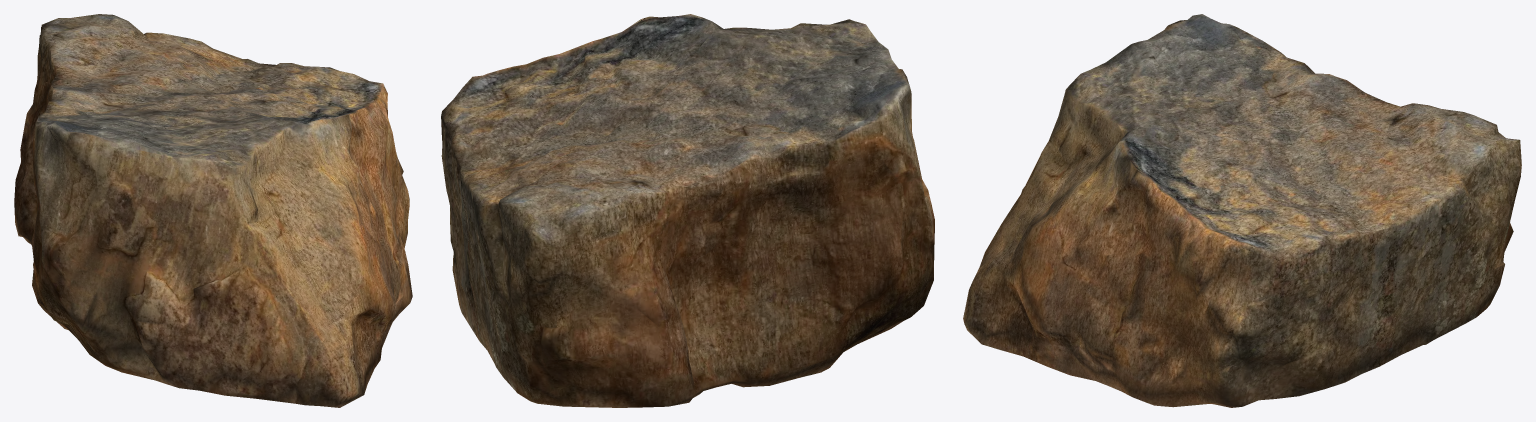
The model's file is assets__ph__namaqualand_boulder_03.glb.
3 views of the same model, side by side, from view 1: azimuth 30°, elevation 25°; view 2: azimuth 150°, elevation 25°; view 3: azimuth 270°, elevation 25° (orthographic). The views are drawn at different scales.
Visible parts, largest first — view 1: boulder_03_LOD0; view 2: boulder_03_LOD0; view 3: boulder_03_LOD0.
Boxes of the visible parts, x1,y1,x2,y2 form: boulder_03_LOD0: (14,14,412,407); boulder_03_LOD0: (441,14,934,407); boulder_03_LOD0: (963,14,1521,407).
Bounding box in the file's own units: 2.4 × 1.47 × 3.06.
Materials: 1 (1 with a texture image).
